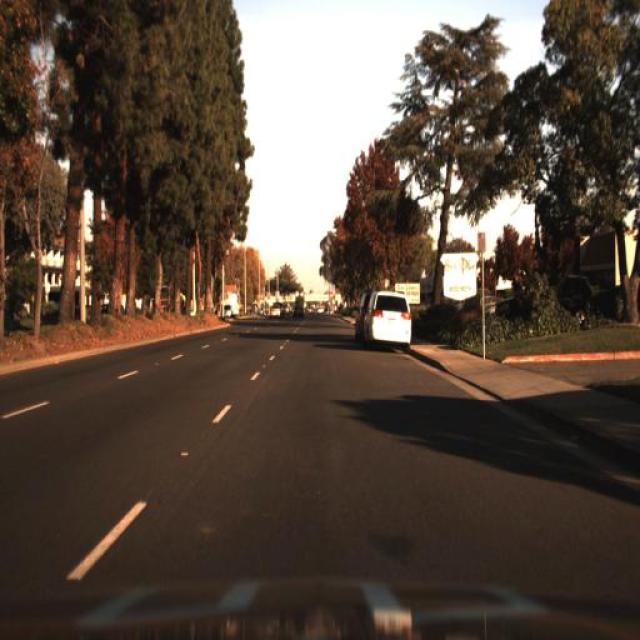car: (493, 262, 609, 332), (362, 277, 418, 363), (263, 293, 283, 318), (291, 298, 308, 326), (222, 299, 236, 327)
